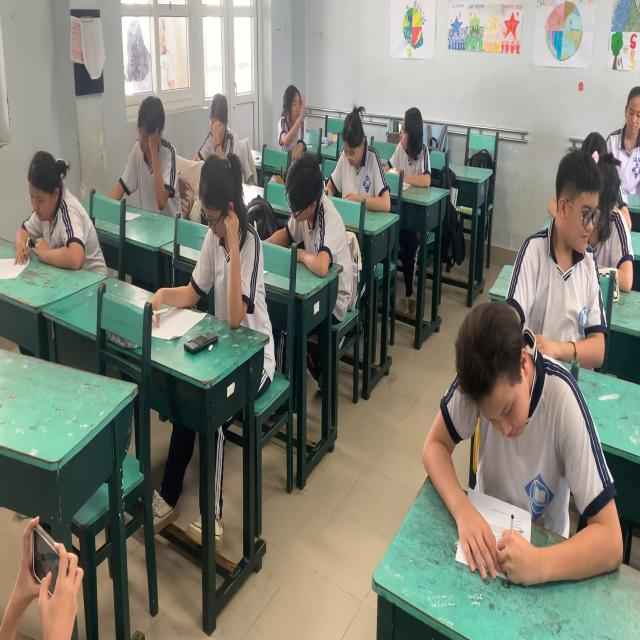cheating: (523, 146, 601, 370), (272, 58, 315, 158), (395, 96, 430, 186)
not_cheating: (430, 331, 587, 549), (179, 155, 270, 310), (18, 144, 107, 300), (319, 93, 395, 196), (115, 97, 177, 220), (286, 151, 331, 255), (189, 86, 247, 158)
